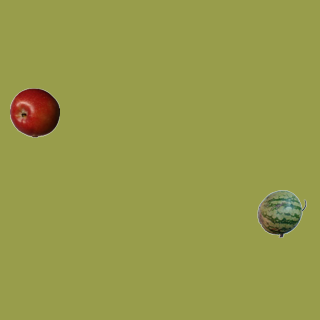Apple Braeburn: (9, 87, 59, 137)
Watermelon: (256, 188, 306, 238)
